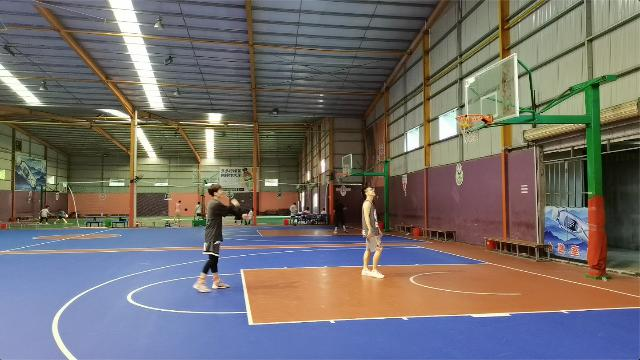basket: (455, 113, 483, 142)
goal: (458, 115, 474, 129)
